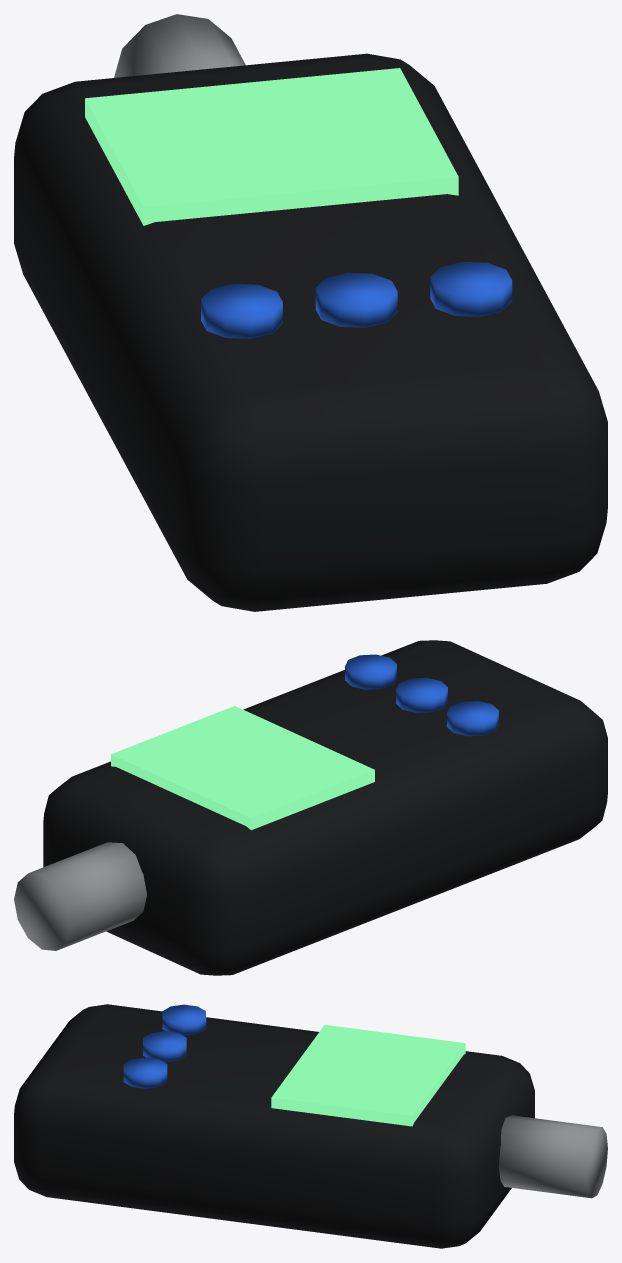
The model's file is etilometro_atual.glb.
3 renders of one model, top to bottom at view 1: azimuth 30°, elevation 25°; view 2: azimuth 150°, elevation 25°; view 3: azimuth 270°, elevation 25°, orthographic. The views are drawn at different scales.
Visible parts, largest first — view 1: I_Etilometro_Corpo, I_Etilometro_Visor, I_Etilometro_Encaixe, I_Etilometro_Botao.001, I_Etilometro_Botao.002, I_Etilometro_Botao; view 2: I_Etilometro_Corpo, I_Etilometro_Visor, I_Etilometro_Encaixe, I_Etilometro_Botao.002, I_Etilometro_Botao, I_Etilometro_Botao.001; view 3: I_Etilometro_Corpo, I_Etilometro_Visor, I_Etilometro_Encaixe, I_Etilometro_Botao.002, I_Etilometro_Botao, I_Etilometro_Botao.001.
Part boxes in pixels (x1=…): I_Etilometro_Corpo: x1=14, y1=53, x2=607, y2=611; I_Etilometro_Visor: x1=85, y1=68, x2=458, y2=225; I_Etilometro_Encaixe: x1=114, y1=14, x2=245, y2=77; I_Etilometro_Botao.001: x1=315, y1=272, x2=397, y2=327; I_Etilometro_Botao.002: x1=430, y1=261, x2=512, y2=316; I_Etilometro_Botao: x1=201, y1=283, x2=282, y2=338; I_Etilometro_Corpo: x1=43, y1=640, x2=607, y2=975; I_Etilometro_Visor: x1=111, y1=706, x2=374, y2=830; I_Etilometro_Encaixe: x1=14, y1=842, x2=146, y2=950; I_Etilometro_Botao.002: x1=345, y1=654, x2=396, y2=689; I_Etilometro_Botao: x1=447, y1=701, x2=498, y2=736; I_Etilometro_Botao.001: x1=396, y1=677, x2=447, y2=712; I_Etilometro_Corpo: x1=14, y1=1004, x2=534, y2=1248; I_Etilometro_Visor: x1=271, y1=1025, x2=465, y2=1126; I_Etilometro_Encaixe: x1=499, y1=1115, x2=607, y2=1198; I_Etilometro_Botao.002: x1=123, y1=1057, x2=167, y2=1088; I_Etilometro_Botao: x1=162, y1=1004, x2=206, y2=1035; I_Etilometro_Botao.001: x1=143, y1=1031, x2=186, y2=1062.
Size of the model in its own units: 0.1094 by 0.044 by 0.1811.
